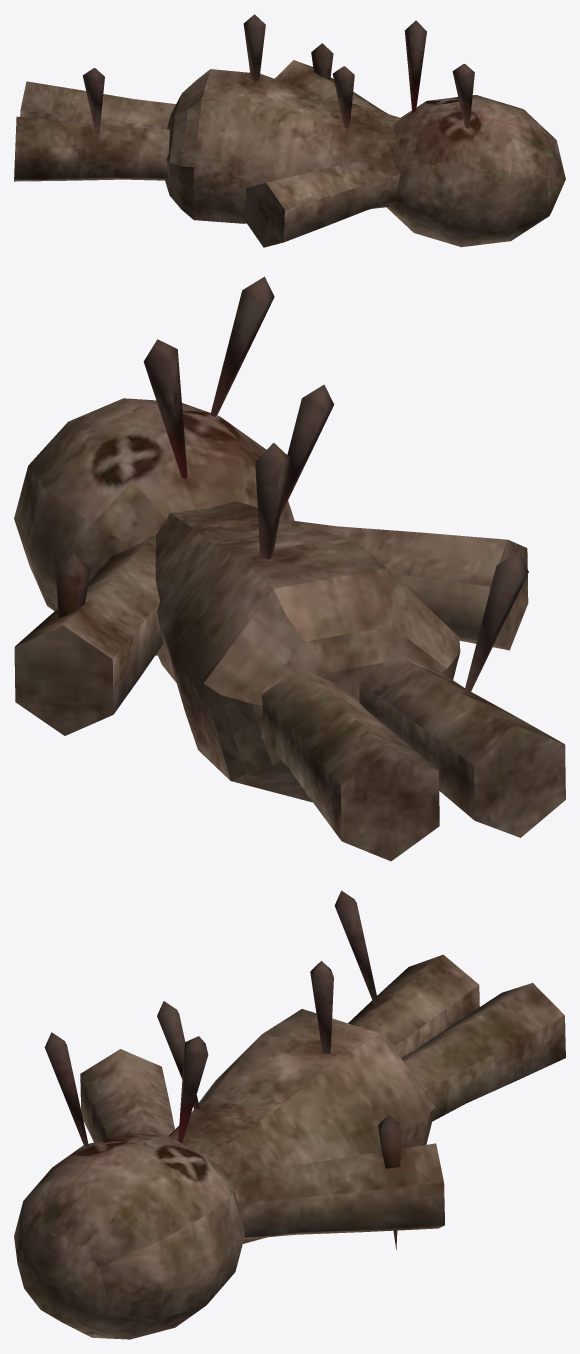
File: voodoo.glb
3 renders of one model, top to bottom at view 1: azimuth 30°, elevation 25°; view 2: azimuth 150°, elevation 25°; view 3: azimuth 270°, elevation 25°, orthographic. The views are drawn at different scales.
Visible parts, largest first — view 1: Sphere001_Voodoo Doll_0; view 2: Sphere001_Voodoo Doll_0; view 3: Sphere001_Voodoo Doll_0.
Part boxes in pixels (x1,y1,x2,y2): Sphere001_Voodoo Doll_0: (14,14,565,247); Sphere001_Voodoo Doll_0: (14,276,565,861); Sphere001_Voodoo Doll_0: (14,890,565,1339).
Bounding box in the file's own units: 12.62 × 5.8 × 10.58.
1 material, 1 textured.
